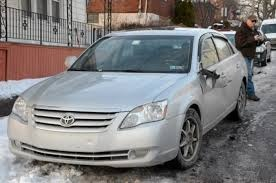Broken-glass: (197, 66, 228, 88)
